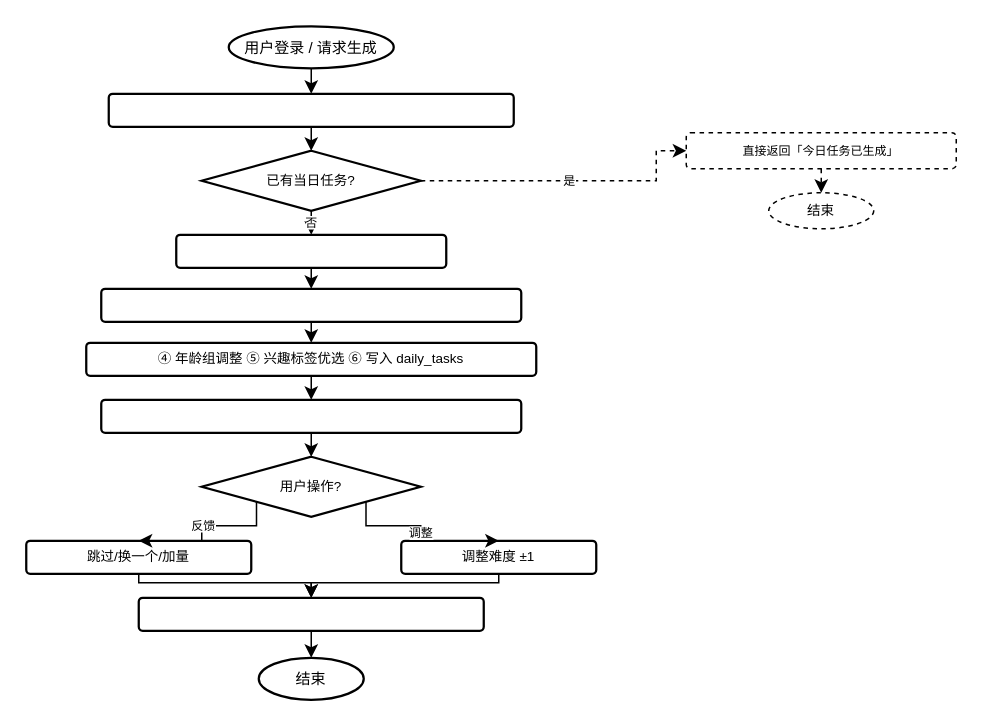
This 984x728 diagram has some shape labels left out. The box of each missing label's shape, as (x1, y1, x2, y2) in pixels:
① 短板优先 ② 学习目标加权 ③ 匹配 CEFR: (99, 287, 522, 322)
获取 user_profiles + assessment_records + 反馈: (107, 92, 514, 127)
规则引擎六步法: (174, 233, 447, 268)
记录反馈 → 下次生成优化: (137, 596, 484, 631)
输出 3 个任务: 跟读练习 + 情景对话 + 听力训练: (99, 398, 522, 433)
